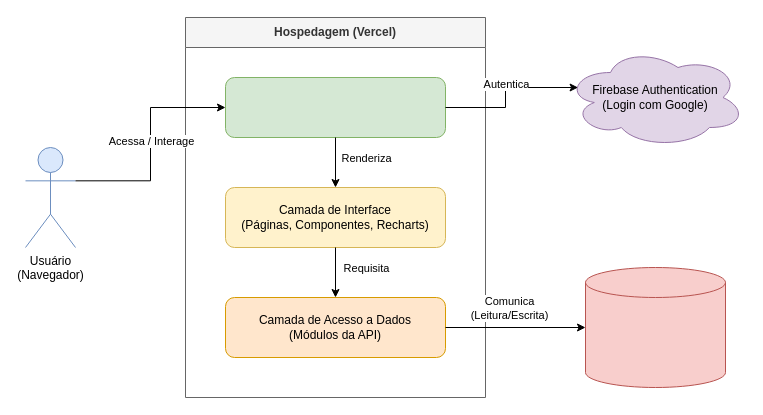
Image size: 763x415. Some labels were removed from this diagram. The centre of each missing label's shape, as x and y in pixels:
Cloud Firestore (Persistência de Dados): point (655, 327)
FinanceApp (React.js / Vite): point (335, 107)
